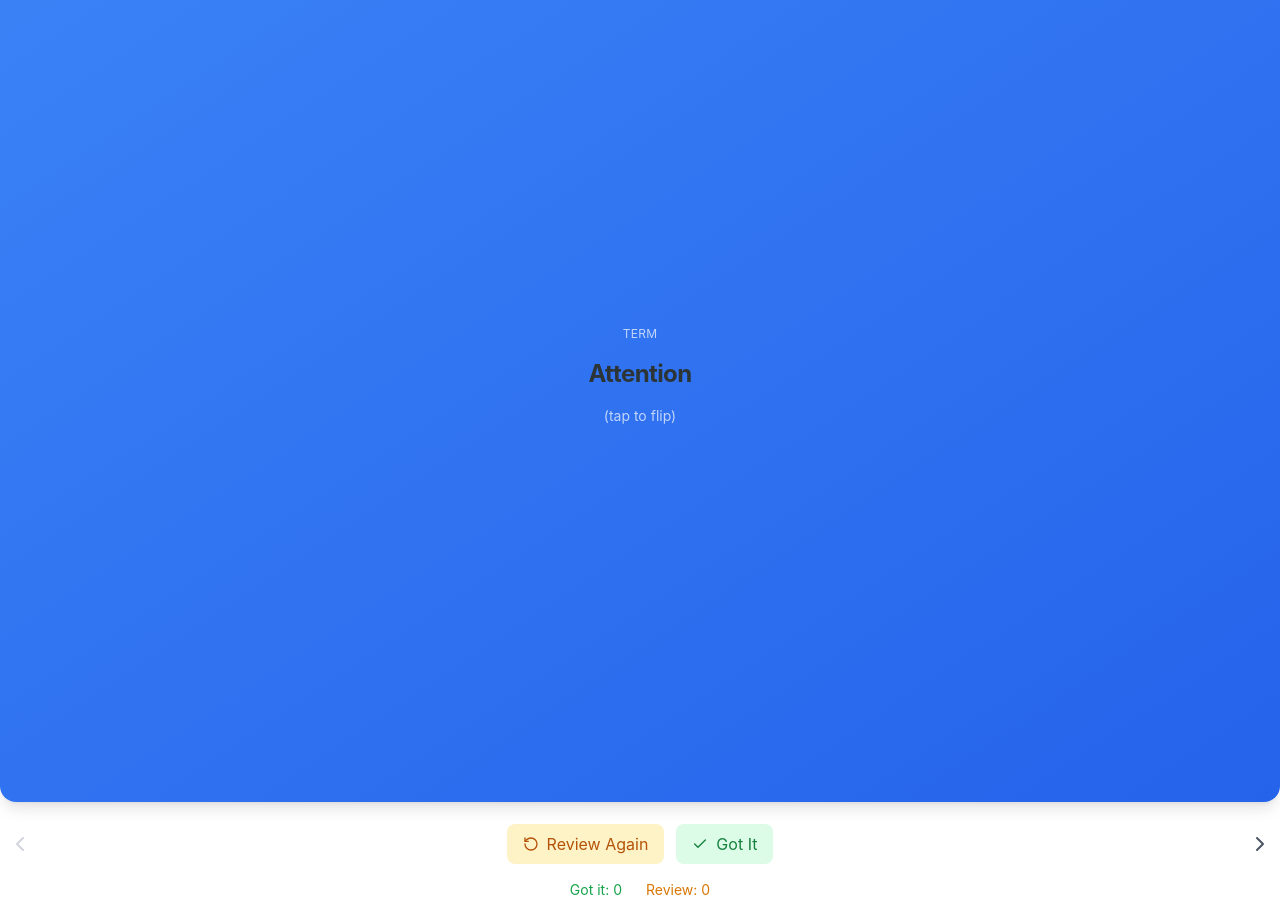
Test: FlashcardDeck › navigates to previous card when clicking previous
The width and height of the screenshot is (1280, 900).
(page scrolled)
# Go to second card first
Click the button with test id "next-button" at [1260, 844], box [1240, 824, 1279, 864]
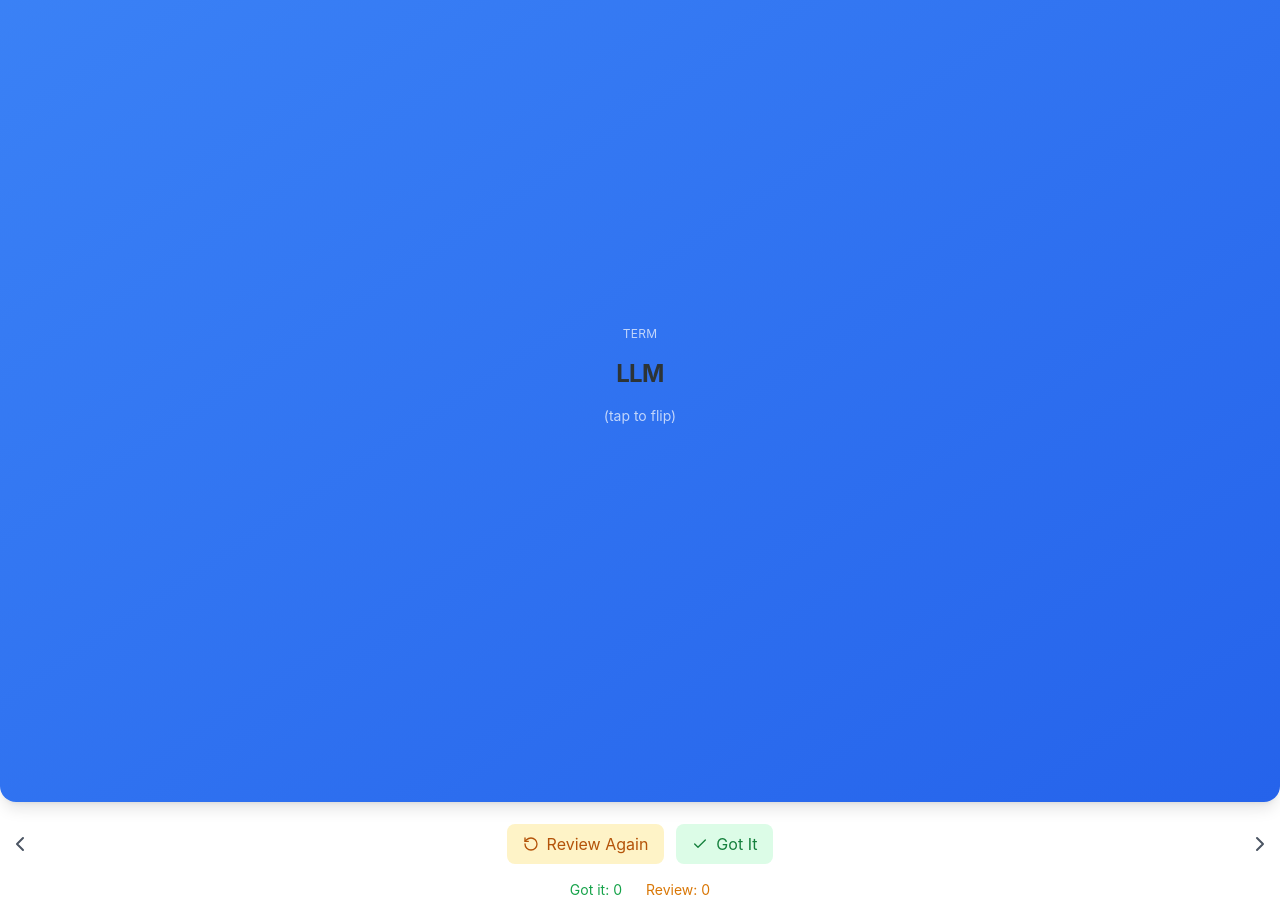
#  Go back
Click the button with test id "prev-button" at [20, 844], box [0, 824, 40, 864]
(page scrolled)
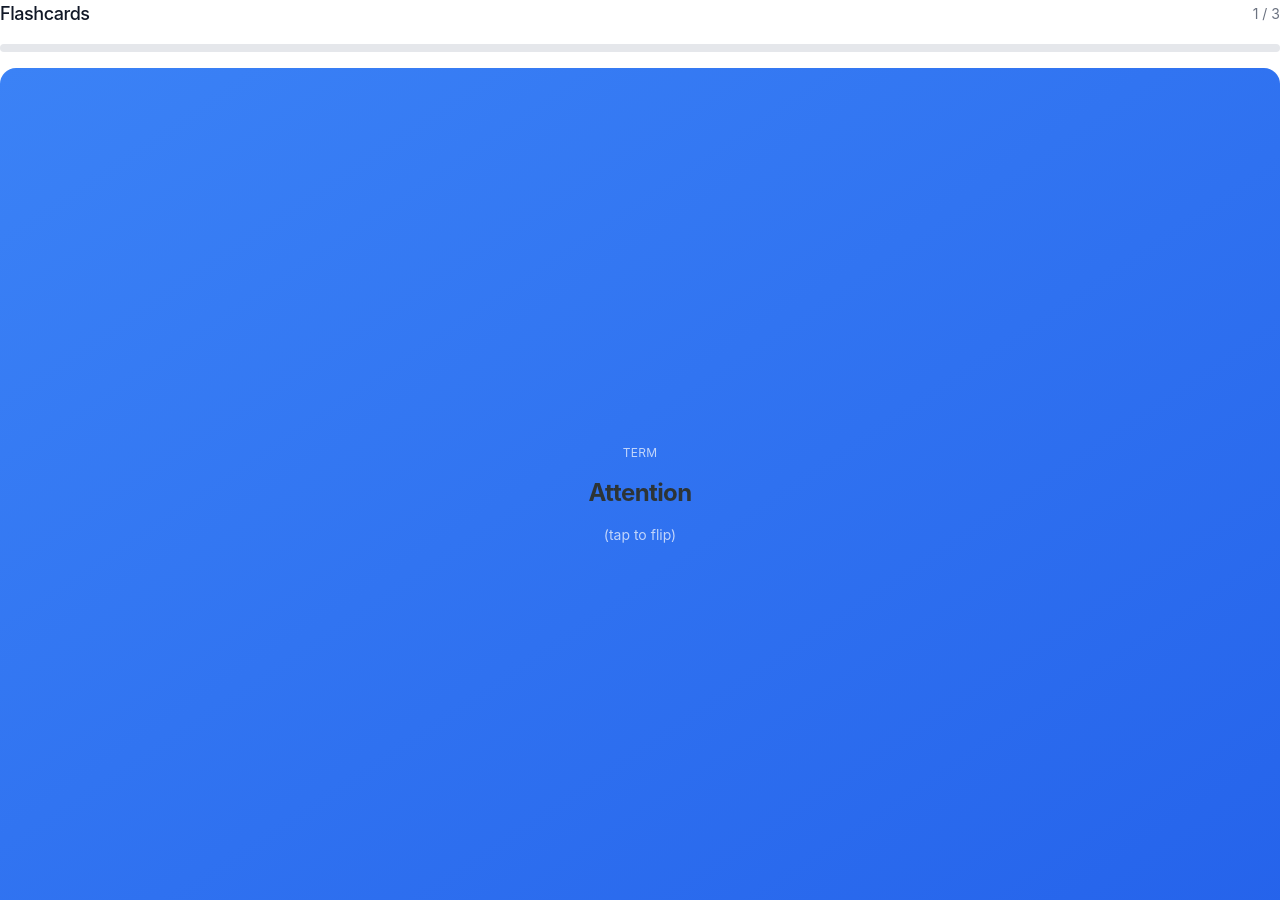
Expected: the text "1 / 3" is shown, [1253, 4, 1279, 24]
